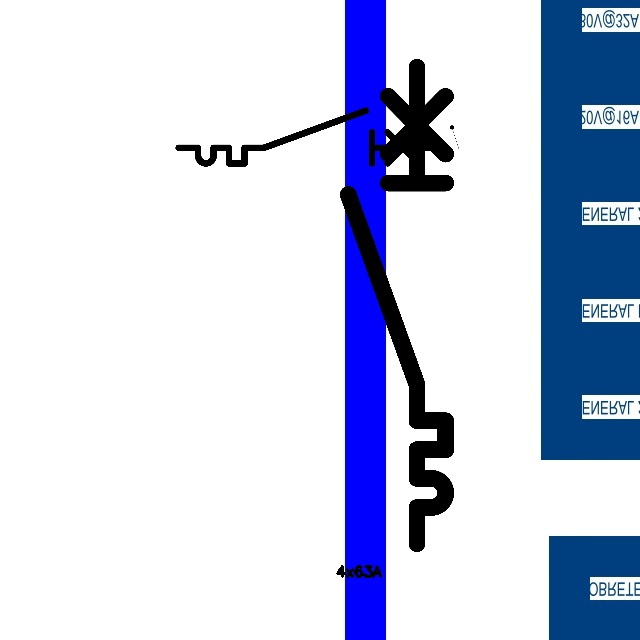interruptor_termomagnetico: (336, 55, 458, 556), (172, 104, 441, 170)
